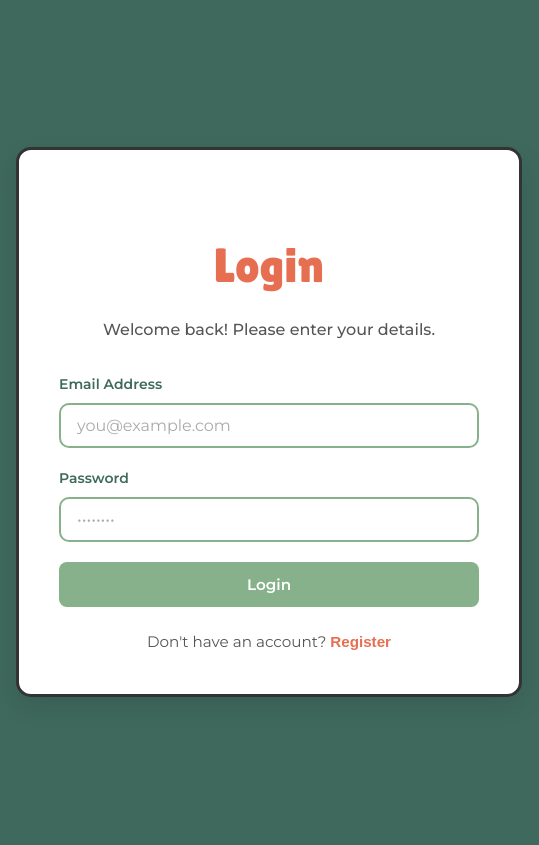
Test: shows error message when register information missing
Click the button "Register".
click(361, 642)  # box [330,633,391,650]
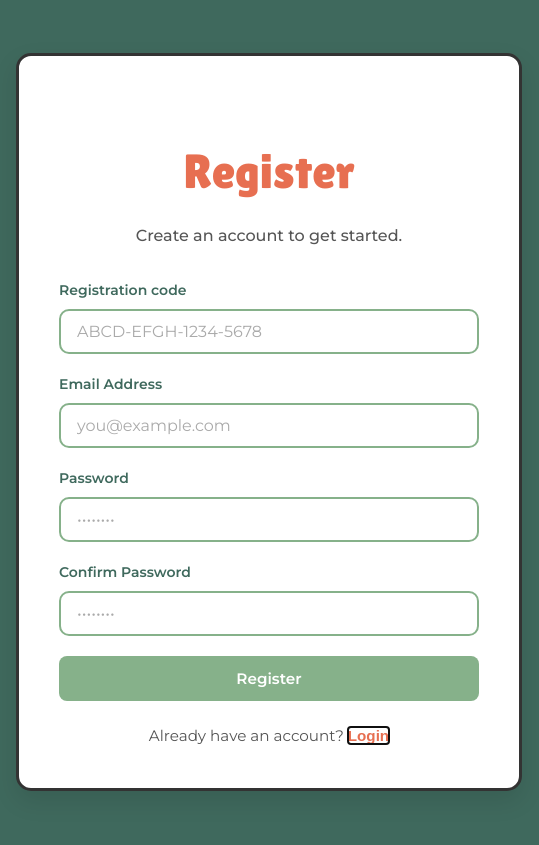
Type "test@email.com" into the field labelled "Email Address".
click(269, 426); type("test@email.com")  # box [59,403,479,448]
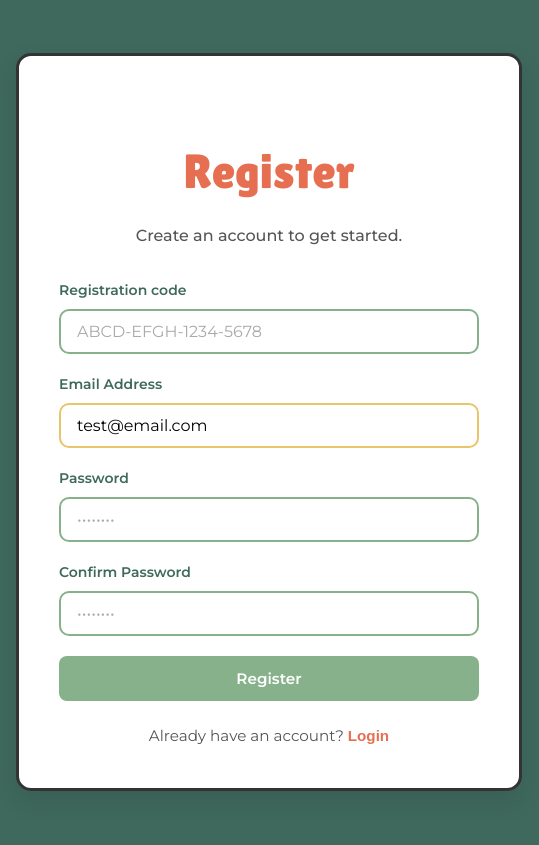
Click the button "Register".
click(269, 678)  # box [59,656,479,701]
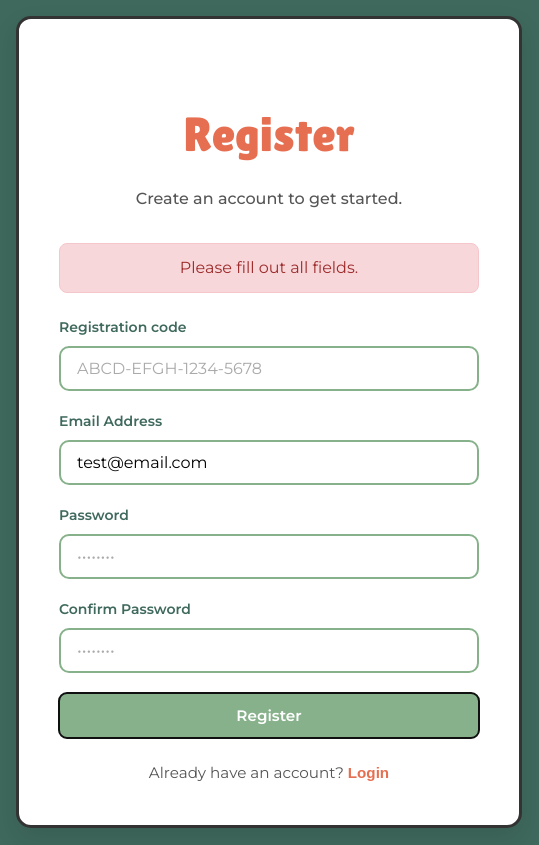
Check: the text "Please fill out all fields." is shown, box [59,243,479,293]
